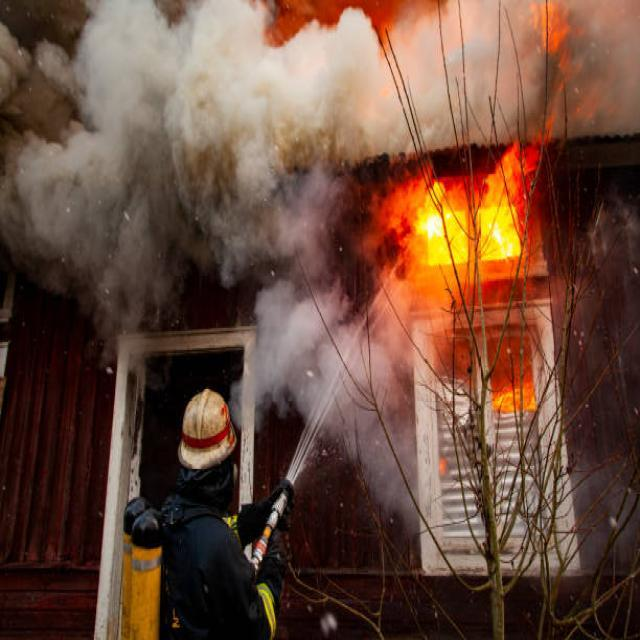Fire: (404, 136, 524, 270), (522, 0, 582, 125), (266, 0, 442, 41), (478, 348, 546, 416)
Smoke: (0, 0, 531, 310)
